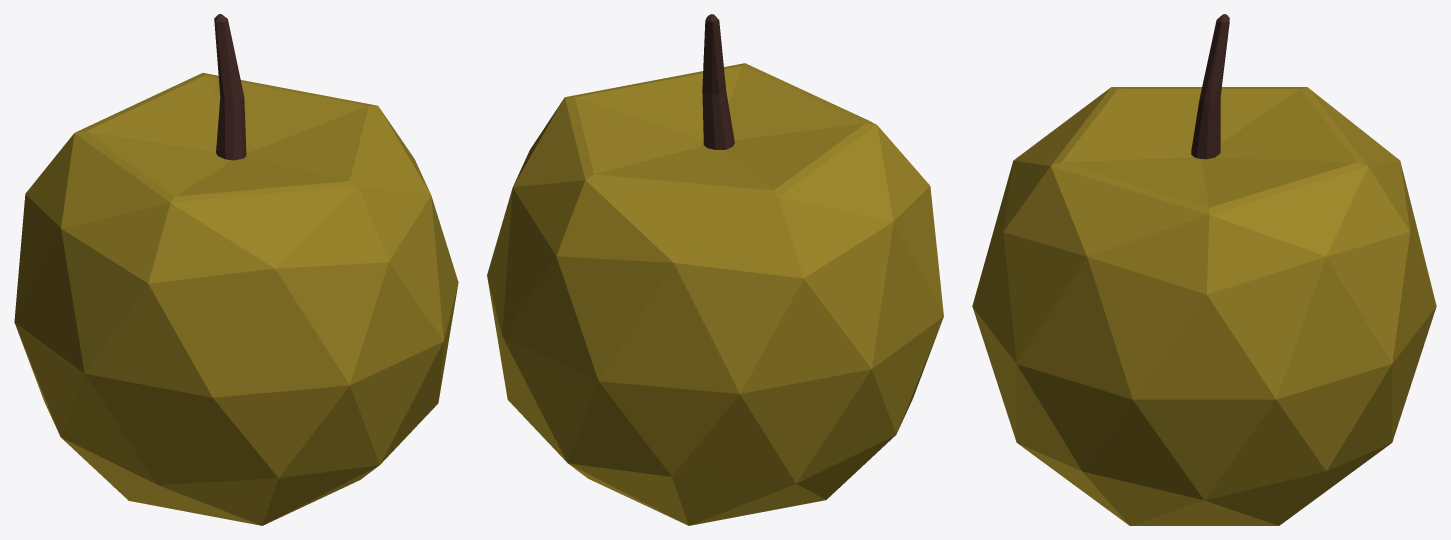
File: apple.glb
3 views of the same model, side by side, from view 1: azimuth 30°, elevation 25°; view 2: azimuth 150°, elevation 25°; view 3: azimuth 270°, elevation 25° (orthographic). The views are drawn at different scales.
Visible parts, largest first — view 1: Icosphere; view 2: Icosphere; view 3: Icosphere.
Part boxes in pixels (box(x1,y1,x2,y2)): Icosphere: box(14, 14, 458, 525); Icosphere: box(487, 14, 943, 525); Icosphere: box(972, 14, 1436, 525).
Size of the model in its own units: 0.3554 by 0.4219 by 0.3737.
